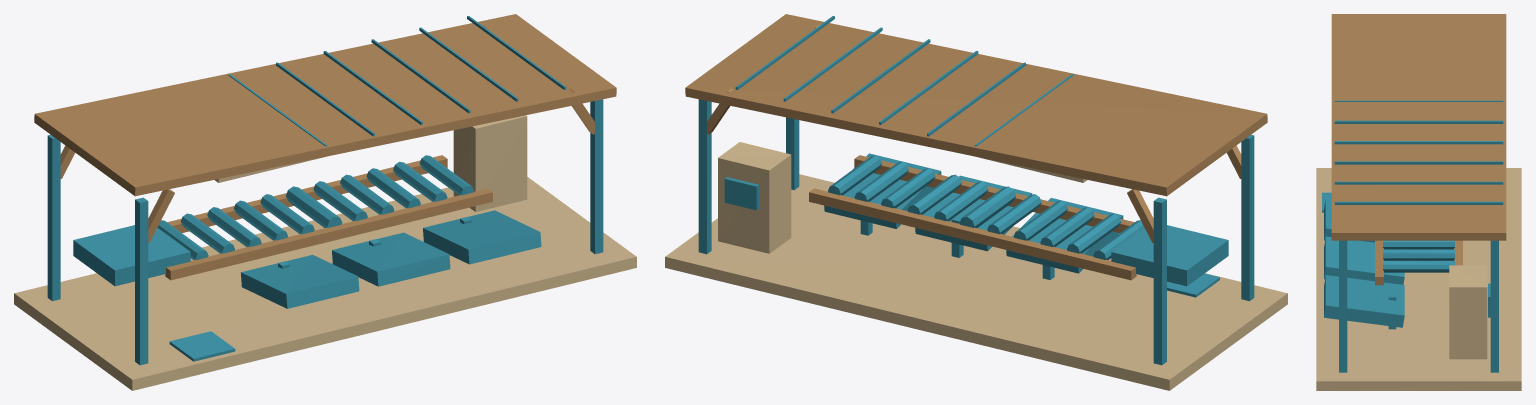
The model's file is egg-sorting-station.source.glb.
The picture shows the model from 3 angles, left to right: view 1: azimuth 30°, elevation 25°; view 2: azimuth 150°, elevation 25°; view 3: azimuth 270°, elevation 25°; orthographic projection. The views are drawn at different scales.
Visible parts, largest first — view 1: egg-sorting-station-slim-canopy-mesh, egg-sorting-station-hygienic-pad-mesh, egg-sorting-station-control-cabinet-mesh, egg-sorting-station-front-conveyor-rail-mesh, egg-sorting-station-empty-grade-1-tray-mesh, egg-sorting-station-empty-grade-2-tray-mesh, egg-sorting-station-empty-grade-3-tray-mesh, egg-sorting-station-empty-egg-input-tray-mesh, egg-sorting-station-lf-post-mesh, egg-sorting-station-lr-post-mesh, egg-sorting-station-rf-post-mesh, egg-sorting-station-rear-conveyor-rail-mesh (+13 smaller); view 2: egg-sorting-station-slim-canopy-mesh, egg-sorting-station-hygienic-pad-mesh, egg-sorting-station-control-cabinet-mesh, egg-sorting-station-rear-conveyor-rail-mesh, egg-sorting-station-empty-egg-input-tray-mesh, egg-sorting-station-lr-post-mesh, egg-sorting-station-lf-post-mesh, egg-sorting-station-rr-post-mesh, egg-sorting-station-empty-grade-1-tray-mesh, egg-sorting-station-front-conveyor-rail-mesh, egg-sorting-station-empty-grade-3-tray-mesh, egg-sorting-station-empty-grade-2-tray-mesh (+15 smaller); view 3: egg-sorting-station-slim-canopy-mesh, egg-sorting-station-hygienic-pad-mesh, egg-sorting-station-control-cabinet-mesh, egg-sorting-station-empty-grade-3-tray-mesh, egg-sorting-station-empty-grade-2-tray-mesh, egg-sorting-station-rf-post-mesh, egg-sorting-station-rr-post-mesh, egg-sorting-station-static-roller-11-mesh, egg-sorting-station-static-roller-10-mesh, egg-sorting-station-static-roller-9-mesh, egg-sorting-station-canopy-seam-7-mesh, egg-sorting-station-canopy-seam-5-mesh (+7 smaller).
Boxes of the visible parts, left/top/right/bottom form: egg-sorting-station-slim-canopy-mesh: left=34, top=14, right=616, bottom=196; egg-sorting-station-hygienic-pad-mesh: left=14, top=177, right=636, bottom=390; egg-sorting-station-control-cabinet-mesh: left=453, top=115, right=527, bottom=211; egg-sorting-station-front-conveyor-rail-mesh: left=165, top=188, right=492, bottom=280; egg-sorting-station-empty-grade-1-tray-mesh: left=240, top=254, right=359, bottom=308; egg-sorting-station-empty-grade-2-tray-mesh: left=332, top=232, right=450, bottom=286; egg-sorting-station-empty-grade-3-tray-mesh: left=423, top=210, right=541, bottom=264; egg-sorting-station-empty-egg-input-tray-mesh: left=73, top=225, right=190, bottom=286; egg-sorting-station-lf-post-mesh: left=135, top=197, right=148, bottom=365; egg-sorting-station-lr-post-mesh: left=47, top=134, right=60, bottom=301; egg-sorting-station-rf-post-mesh: left=590, top=99, right=603, bottom=254; egg-sorting-station-rear-conveyor-rail-mesh: left=167, top=155, right=447, bottom=232; egg-sorting-station-slim-canopy-mesh: left=685, top=14, right=1267, bottom=196; egg-sorting-station-hygienic-pad-mesh: left=665, top=174, right=1287, bottom=390; egg-sorting-station-control-cabinet-mesh: left=718, top=142, right=791, bottom=253; egg-sorting-station-rear-conveyor-rail-mesh: left=809, top=188, right=1136, bottom=280; egg-sorting-station-empty-egg-input-tray-mesh: left=1111, top=225, right=1228, bottom=286; egg-sorting-station-lr-post-mesh: left=1153, top=197, right=1166, bottom=365; egg-sorting-station-lf-post-mesh: left=1241, top=134, right=1254, bottom=301; egg-sorting-station-rr-post-mesh: left=698, top=99, right=711, bottom=254; egg-sorting-station-empty-grade-1-tray-mesh: left=1006, top=198, right=1123, bottom=273; egg-sorting-station-front-conveyor-rail-mesh: left=854, top=155, right=1134, bottom=232; egg-sorting-station-empty-grade-3-tray-mesh: left=824, top=153, right=941, bottom=228; egg-sorting-station-empty-grade-2-tray-mesh: left=915, top=175, right=1032, bottom=251; egg-sorting-station-slim-canopy-mesh: left=1331, top=14, right=1506, bottom=240; egg-sorting-station-hygienic-pad-mesh: left=1316, top=168, right=1521, bottom=390; egg-sorting-station-control-cabinet-mesh: left=1449, top=265, right=1487, bottom=359; egg-sorting-station-empty-grade-3-tray-mesh: left=1324, top=275, right=1404, bottom=327; egg-sorting-station-empty-grade-2-tray-mesh: left=1324, top=236, right=1404, bottom=284; egg-sorting-station-rf-post-mesh: left=1339, top=240, right=1347, bottom=372; egg-sorting-station-rr-post-mesh: left=1490, top=240, right=1498, bottom=372; egg-sorting-station-static-roller-11-mesh: left=1383, top=260, right=1454, bottom=272; egg-sorting-station-static-roller-10-mesh: left=1383, top=249, right=1454, bottom=260; egg-sorting-station-static-roller-9-mesh: left=1383, top=240, right=1454, bottom=249; egg-sorting-station-canopy-seam-7-mesh: left=1334, top=161, right=1503, bottom=164; egg-sorting-station-canopy-seam-5-mesh: left=1334, top=120, right=1503, bottom=123.
Bounding box in the file's own units: 6.65 × 2.45 × 2.7.
